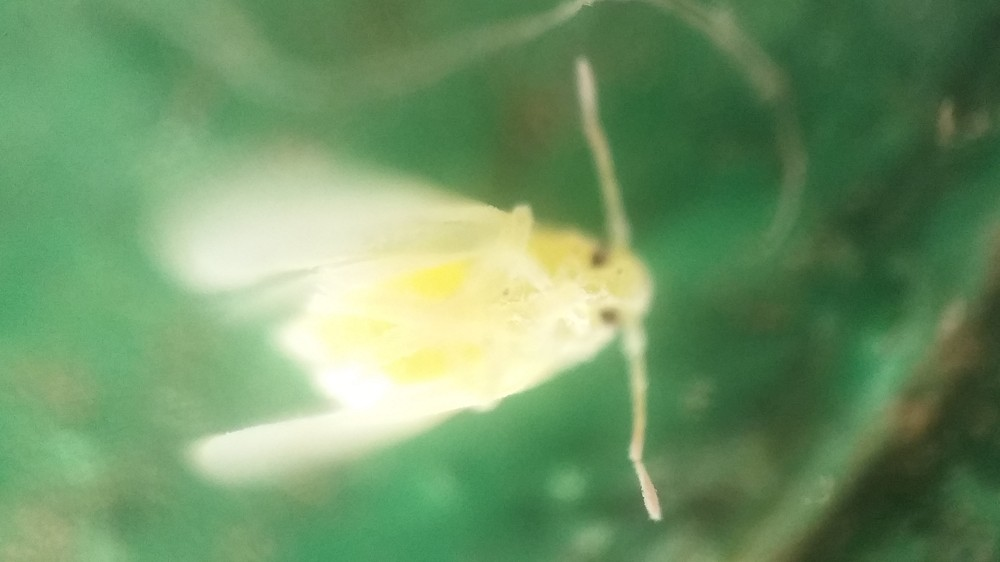Mosca Blanca: (142, 49, 685, 541)
